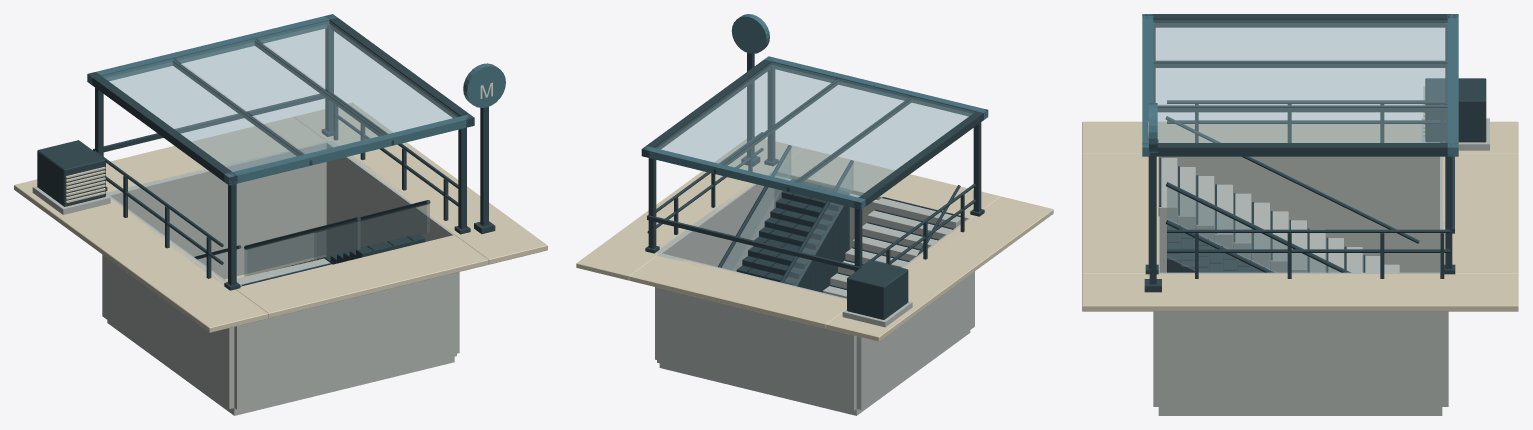
File: subway-entrance-01.glb
3 renders of one model, left to right at view 1: azimuth 30°, elevation 25°; view 2: azimuth 150°, elevation 25°; view 3: azimuth 270°, elevation 25°, orthographic. The views are drawn at different scales.
Visible parts, largest first — view 1: WellFrontRetaining, WellEndWall, CanopyPanel.001, SidePaving, CanopyPanel.002, CanopyPanel, WellSideWall, EndPaving, SidePaving.001, WellSideWall.001, EndPaving.001, EscalatorGlassLeft (+23 smaller); view 2: WellEndWall, CanopyPanel.001, SidePaving, CanopyPanel.002, CanopyPanel, WellSideWall, EndPaving.001, SidePaving.001, EndPaving, WellSideWall.001, VentilationUnit, CanopyFascia.001 (+34 smaller); view 3: WellSideWall.001, WellSideWall, SidePaving.001, CanopyPanel.001, CanopyPanel, CanopyPanel.002, EndPaving, EndPaving.001, SidePaving, EscalatorGlassLeft, CanopySide, CanopySide.001 (+33 smaller).
Boxes of the visible parts, x1,y1,x2,y2 form: WellFrontRetaining: (234,272,456,409); WellEndWall: (106,140,327,279); CanopyPanel.001: (175,39,384,154); SidePaving: (14,179,268,332); CanopyPanel.002: (257,21,459,134); CanopyPanel: (102,59,303,171); WellSideWall: (102,195,234,408); EndPaving: (235,235,488,318); SidePaving.001: (294,102,547,264); WellSideWall.001: (326,141,459,353); EndPaving.001: (106,117,326,192); EscalatorGlassLeft: (244,220,360,276); WellEndWall: (657,253,856,410); CanopyPanel.001: (722,79,909,181); SidePaving: (826,196,1053,341); CanopyPanel.002: (655,62,836,163); CanopyPanel: (795,97,974,197); WellSideWall: (856,218,974,409); EndPaving.001: (629,256,846,328); SidePaving.001: (576,136,803,280); EndPaving: (776,148,1000,220); WellSideWall.001: (655,170,774,359); VentilationUnit: (847,260,908,319); CanopyFascia.001: (644,146,865,209); WellSideWall.001: (1158,272,1442,409); WellSideWall: (1158,156,1439,272); SidePaving.001: (1082,274,1518,311); CanopyPanel.001: (1153,60,1447,105); CanopyPanel: (1153,20,1447,60); CanopyPanel.002: (1157,105,1447,142); EndPaving: (1082,154,1158,273); EndPaving.001: (1442,154,1518,273); SidePaving: (1082,121,1518,154); EscalatorGlassLeft: (1167,187,1340,272); CanopySide: (1142,14,1458,27); CanopySide.001: (1142,143,1458,156).
Bounding box in the file's own units: 8 × 6.59 × 8.
